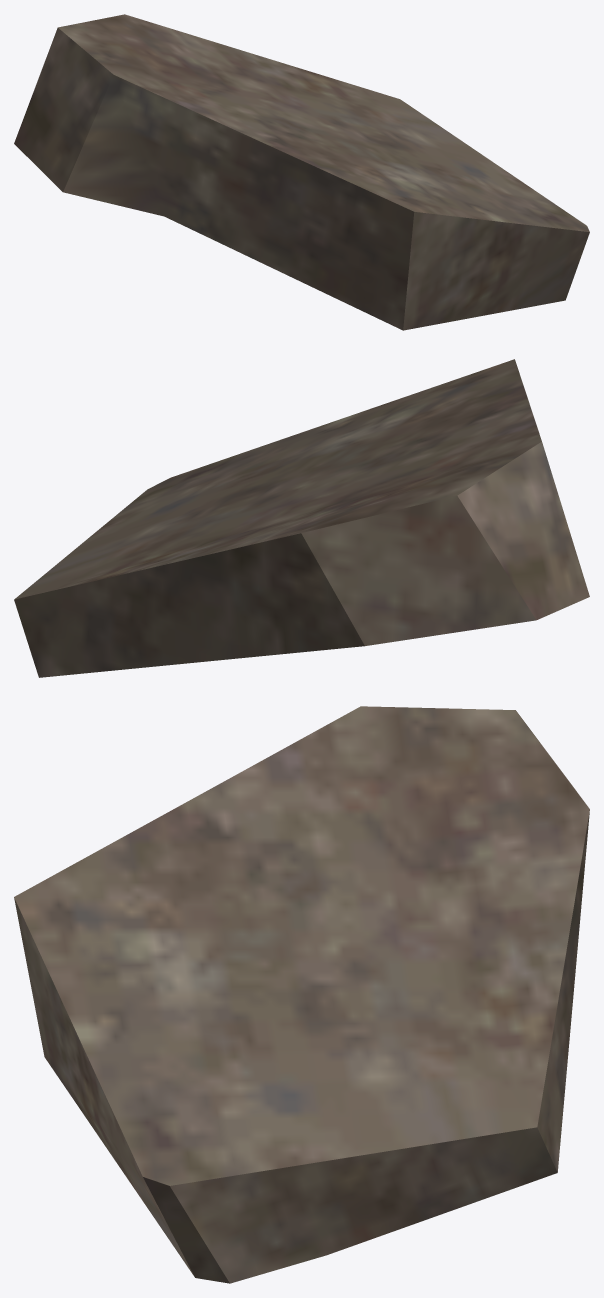
The model's file is Shinobu_Spl_Rock2.fbx.
3 views of the same model, one above another, from view 1: azimuth 30°, elevation 25°; view 2: azimuth 150°, elevation 25°; view 3: azimuth 270°, elevation 25° (orthographic). The views are drawn at different scales.
Visible parts, largest first — view 1: SM_d_e_P0011_V00_C00_SplTwm_Rock_02; view 2: SM_d_e_P0011_V00_C00_SplTwm_Rock_02; view 3: SM_d_e_P0011_V00_C00_SplTwm_Rock_02.
Boxes of the visible parts, x1,y1,x2,y2 form: SM_d_e_P0011_V00_C00_SplTwm_Rock_02: (14,14,589,330); SM_d_e_P0011_V00_C00_SplTwm_Rock_02: (14,359,589,677); SM_d_e_P0011_V00_C00_SplTwm_Rock_02: (14,706,589,1283).
Size of the model in its own units: 27.86 by 16.29 by 25.13.
